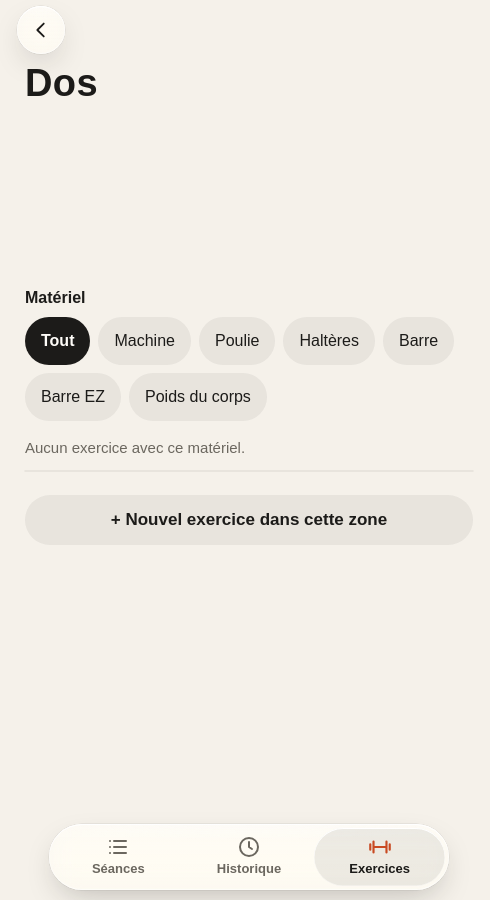
Test: écran Exercices › depuis une zone, « nouvel exercice » pré-choisit la zone
Click the link "+ Nouvel exercice dans cette zone". click: point(249, 520)
box: x1=25 y1=495 x2=473 y2=545
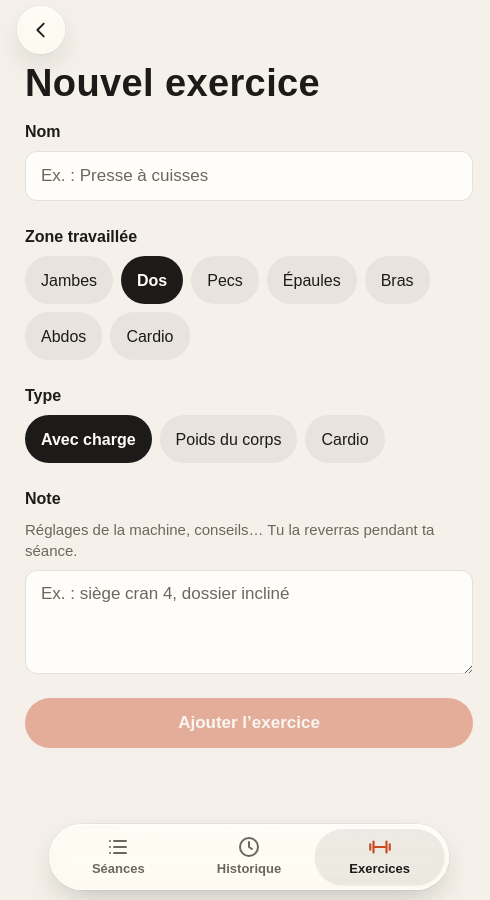
Check: the radio button labelled "Dos" is checked, box x1=121 y1=256 x2=183 y2=304
